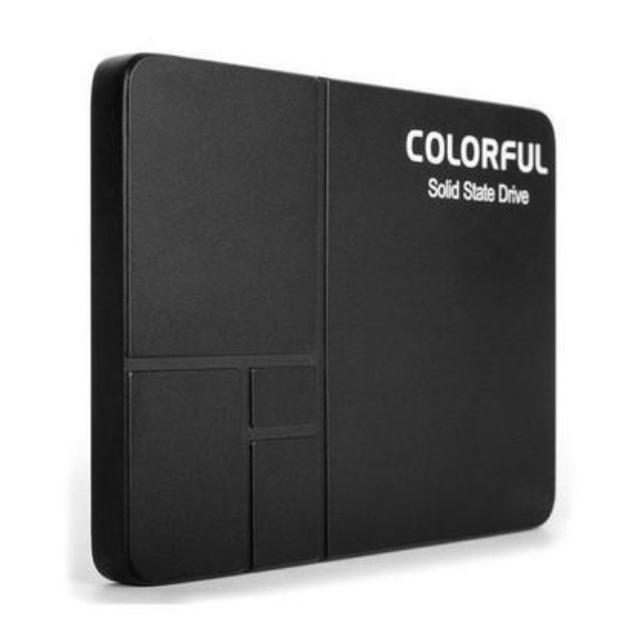DISK: (80, 40, 566, 608)
